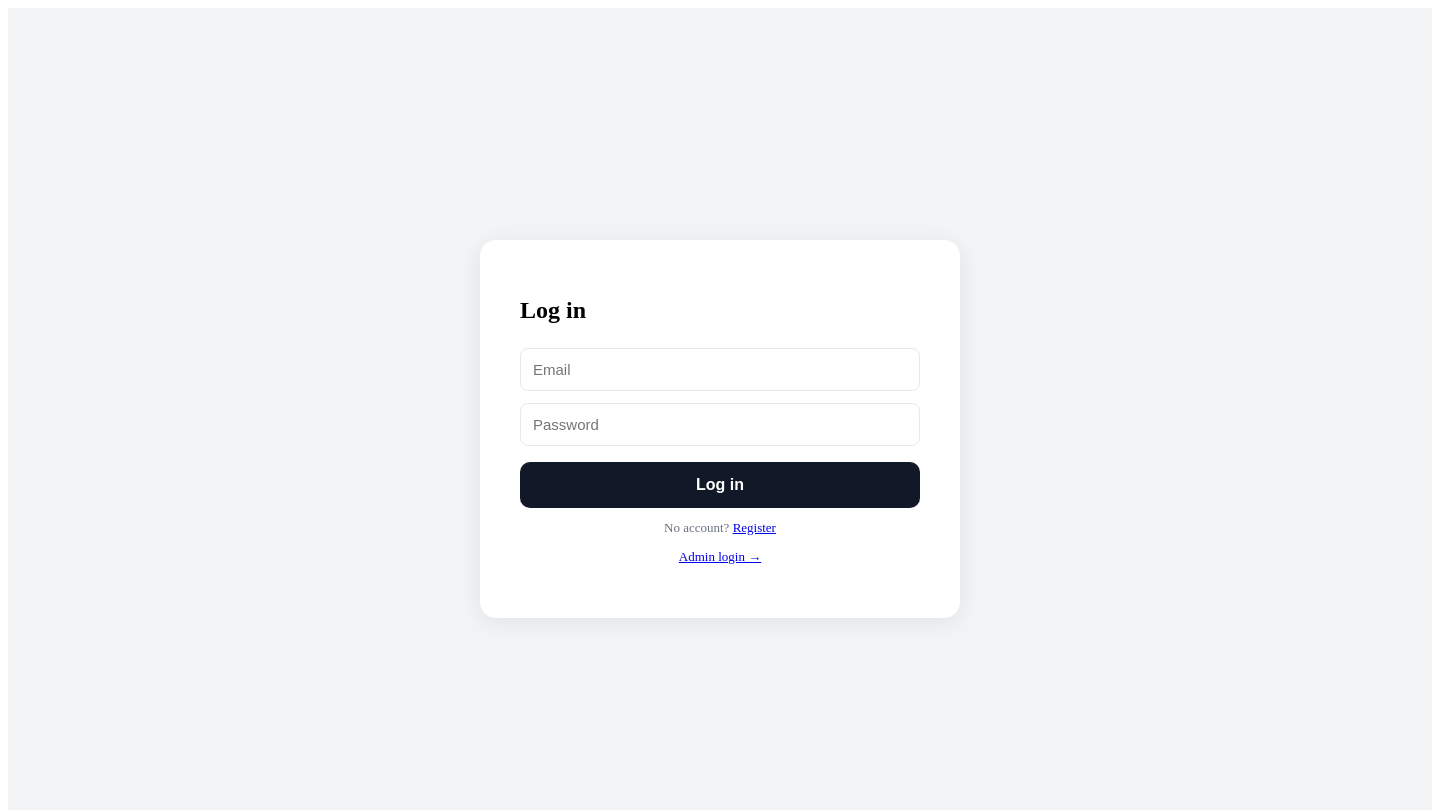
LoginPage › Error handling › displays the error message returned by the API
Click the button "Log in" at (720, 484), box [520,462,920,508]
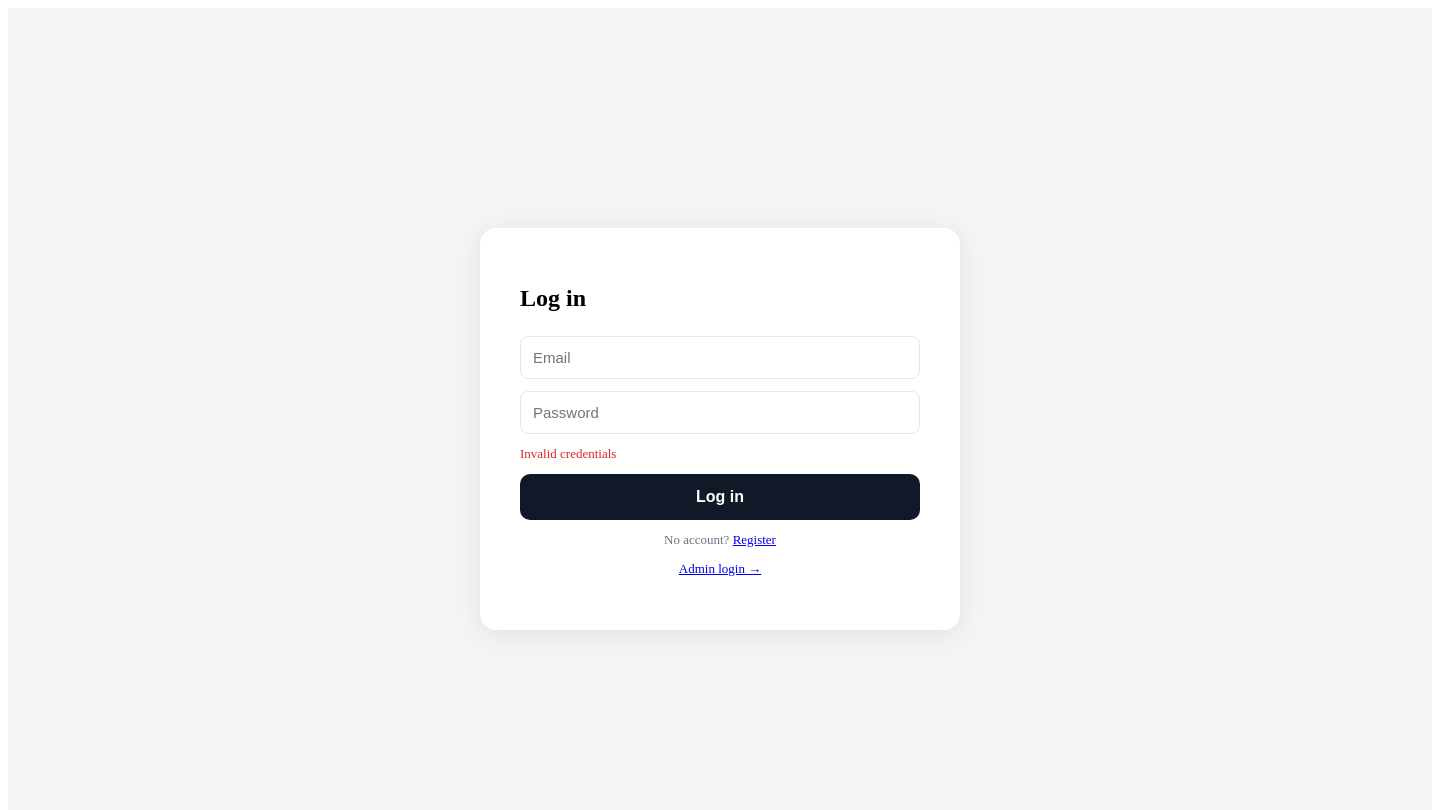
Result: the text "Invalid credentials" is shown at [520,446,616,460]
